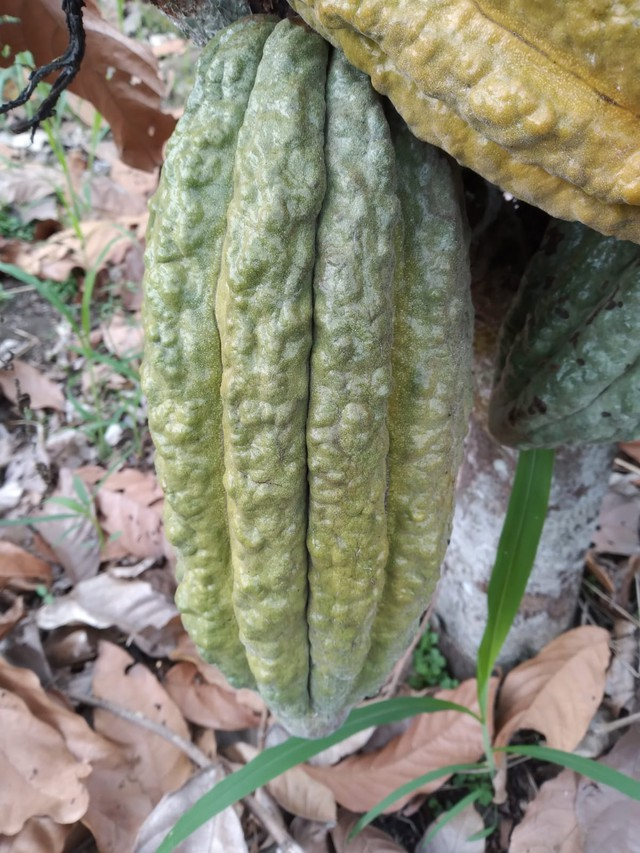Health: (135, 8, 473, 747)
